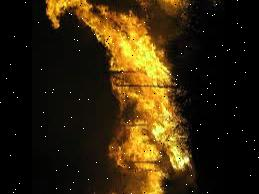fire: (94, 0, 218, 194)
